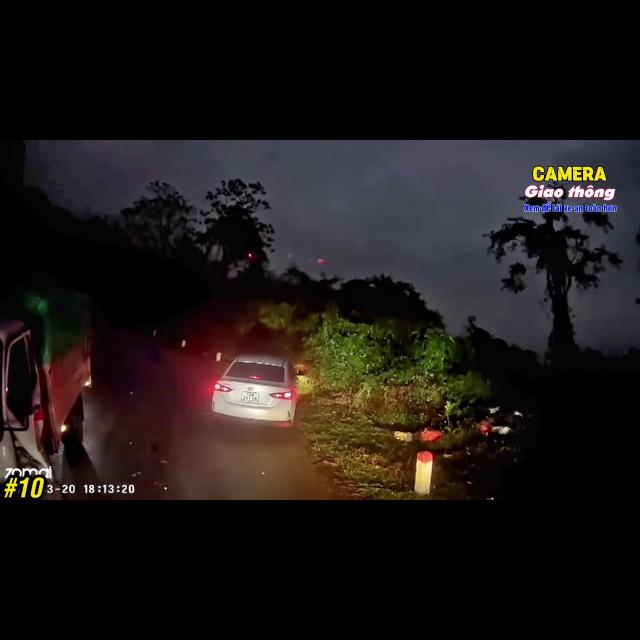car: (211, 355, 301, 425)
truck: (0, 288, 91, 483)
